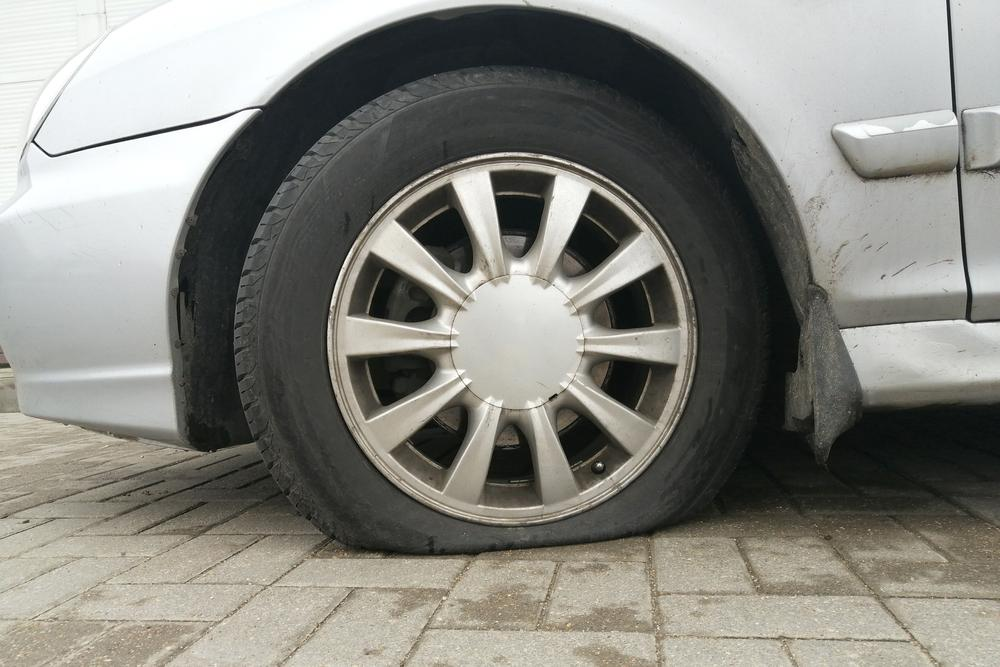tire flat: (231, 67, 776, 556)
